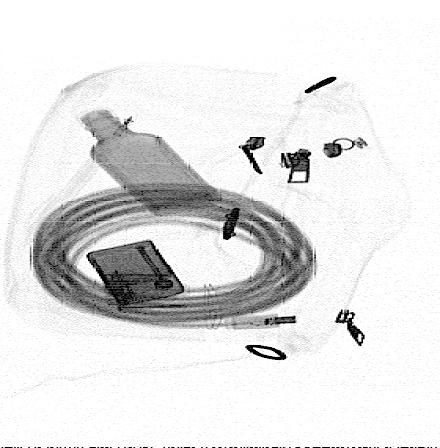Lighter: (86, 238, 184, 306)
